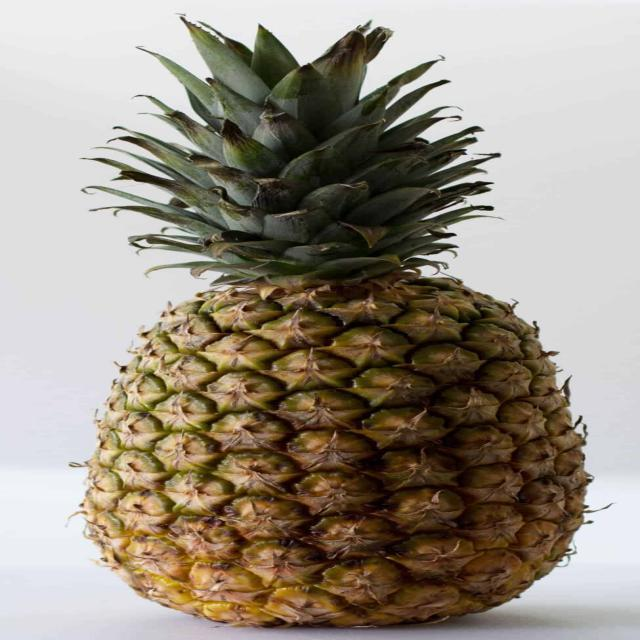PINEAPLE: (86, 12, 584, 626)
